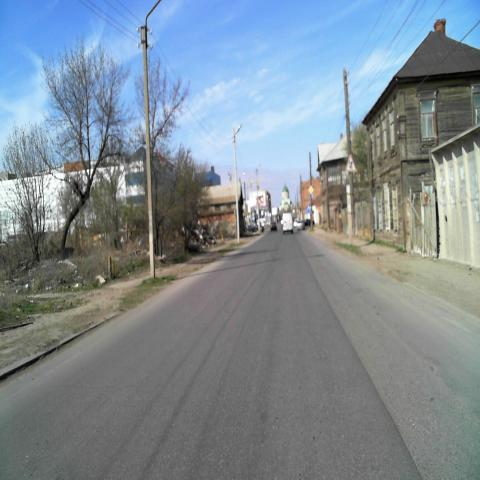1_21: (346, 154, 357, 172)
